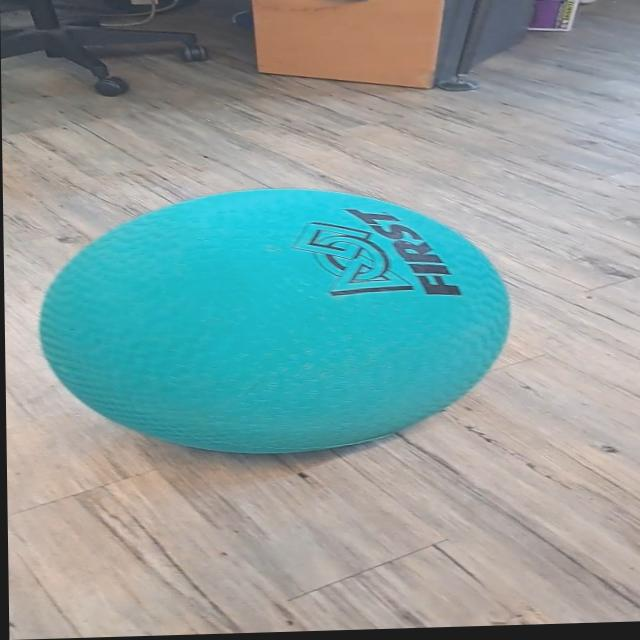ALGAE: (34, 180, 514, 462)
